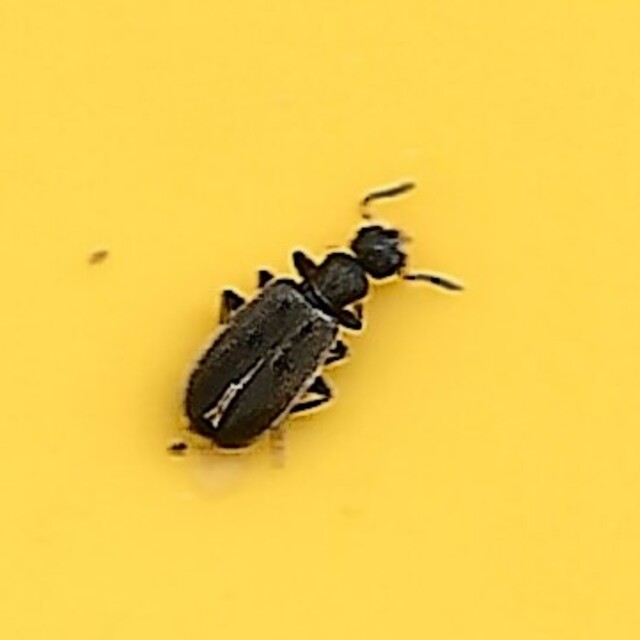Coleoptera: (177, 179, 463, 461)
